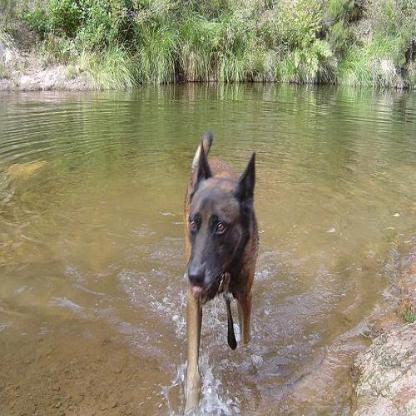malinois: (186, 132, 260, 414)
